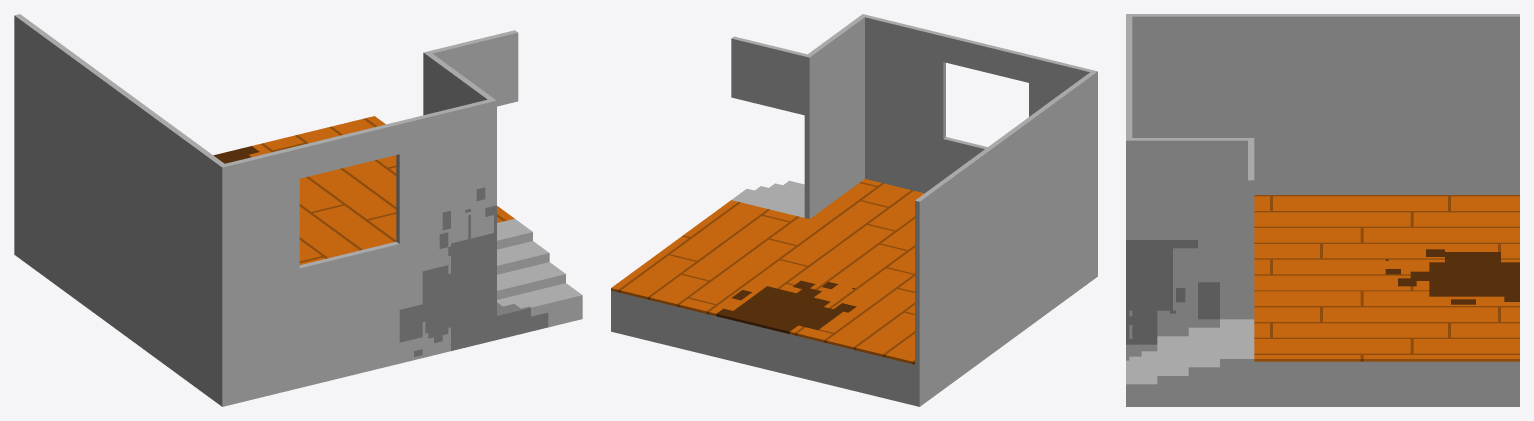
The model's file is 2x2 first 1(2)-1.obj.
The picture shows the model from 3 angles, left to right: view 1: azimuth 30°, elevation 25°; view 2: azimuth 150°, elevation 25°; view 3: azimuth 270°, elevation 25°; orthographic projection. The views are drawn at different scales.
Visible parts, largest first — view 1: 2x2 first 1(2)-1; view 2: 2x2 first 1(2)-1; view 3: 2x2 first 1(2)-1.
Boxes of the visible parts, left/top/right/bottom form: 2x2 first 1(2)-1: left=14, top=14, right=582, bottom=406; 2x2 first 1(2)-1: left=611, top=14, right=1097, bottom=406; 2x2 first 1(2)-1: left=1126, top=14, right=1519, bottom=406.
Bounding box in the file's own units: 126 × 80 × 126.
Materials: 1 (1 with a texture image).
